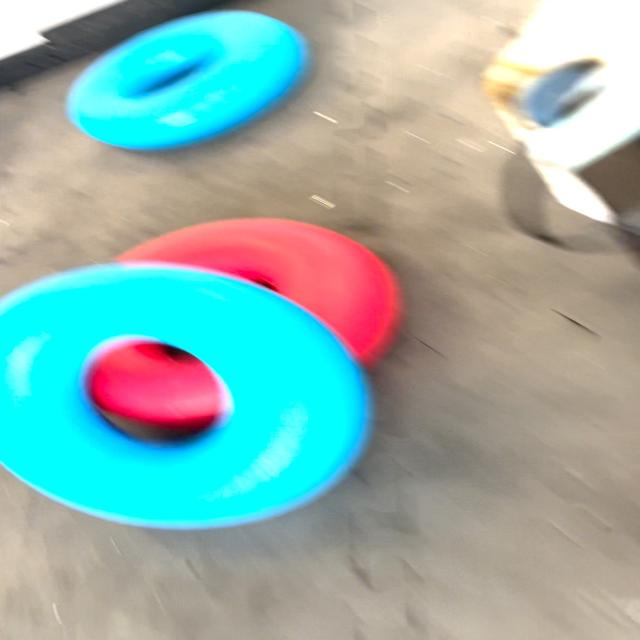Blue-Ring: (0, 262, 371, 529), (67, 11, 309, 150)
Red-Ring: (116, 219, 402, 366)
